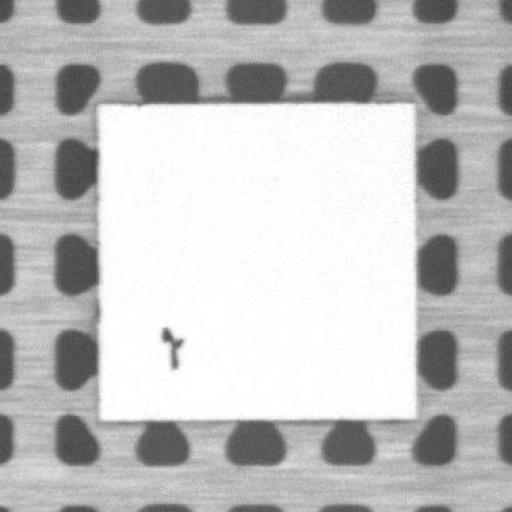DIE_INK: (159, 323, 184, 370)
